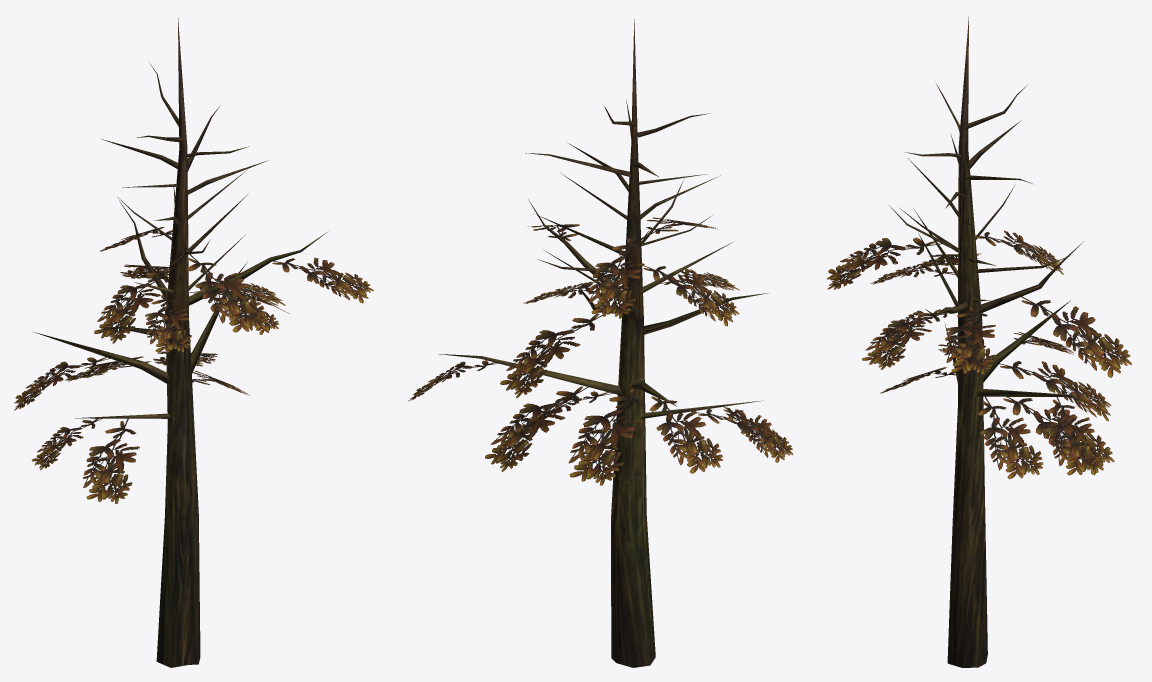
The model's file is dobj_baisu001.FBX.
3 views of the same model, side by side, from view 1: azimuth 30°, elevation 25°; view 2: azimuth 150°, elevation 25°; view 3: azimuth 270°, elevation 25° (orthographic).
Visible parts, largest first — view 1: dobj_baisu001; view 2: dobj_baisu001; view 3: dobj_baisu001.
Part boxes in pixels (x1,y1,x2,y2): dobj_baisu001: (14, 18, 373, 667); dobj_baisu001: (408, 19, 793, 667); dobj_baisu001: (827, 16, 1131, 667).
Bounding box in the file's own units: 5.44 × 10.49 × 4.6.
